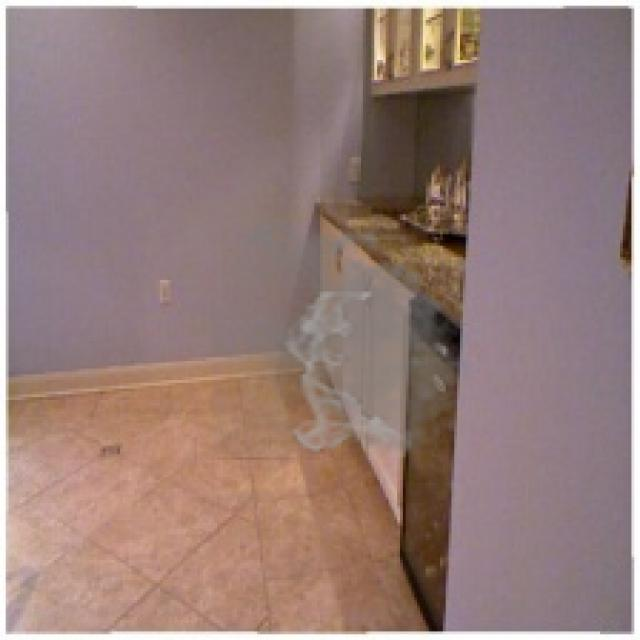smoke: (211, 214, 483, 460)
